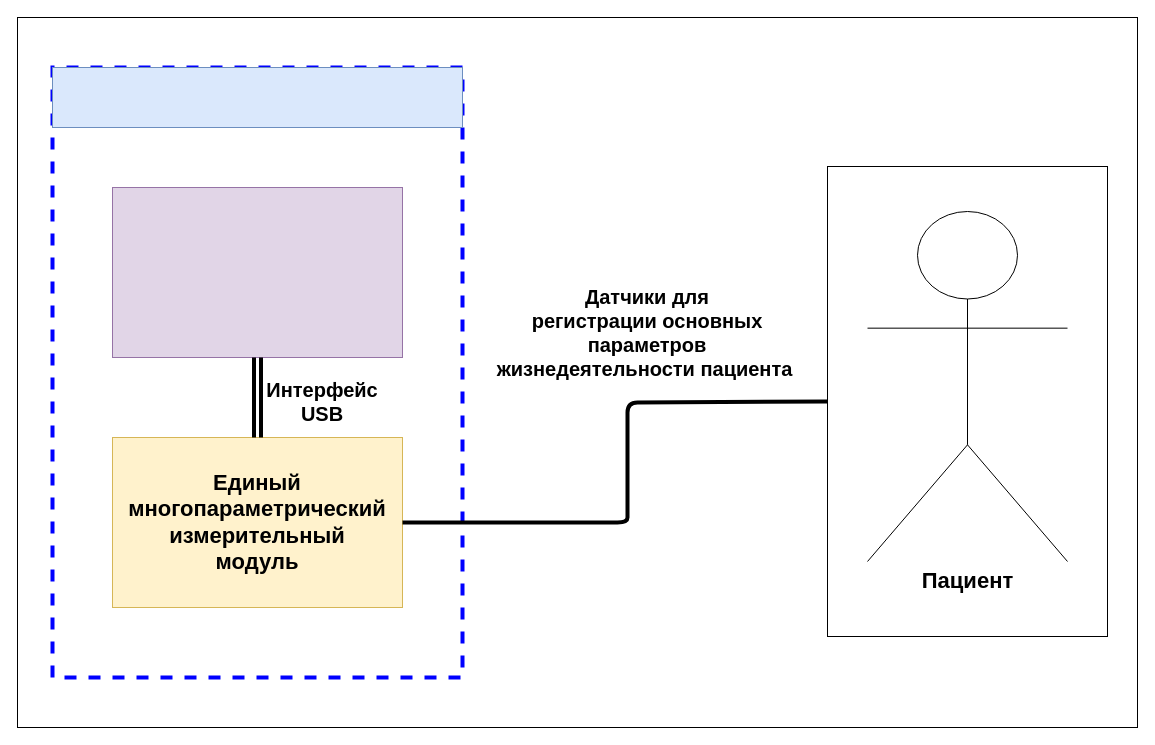
The diagram is 1155 pixels wide and 745 high, and some of its shapes have lost their labels. The shapes that lost their labels are listed below. From the top down, each one's centre as x and y in pixels, then its label:
the point at 257,97: Прикроватный монитор пациента
the point at 257,272: Медицинский компьютер
